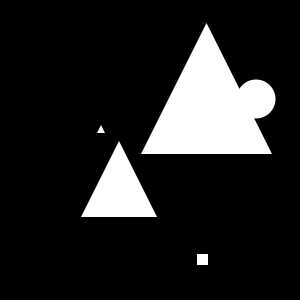circle: (197, 254, 208, 265)
rectangle: (236, 80, 276, 118)
triangle: (141, 23, 272, 154), (81, 141, 157, 217), (97, 125, 105, 133)
